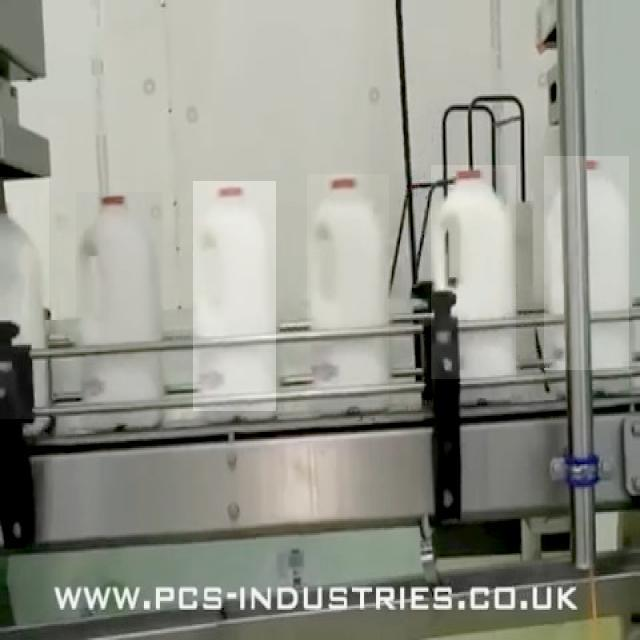milk: (186, 179, 283, 433), (422, 150, 523, 387), (65, 184, 167, 417), (305, 169, 402, 405), (535, 155, 633, 381)
